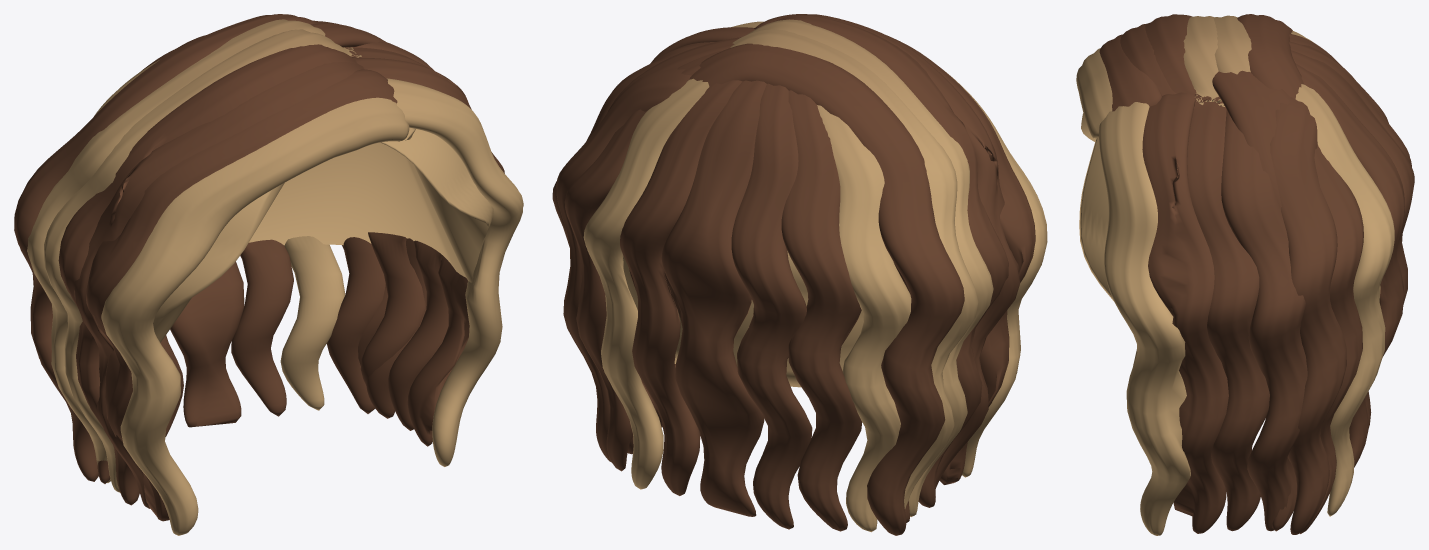
File: Highlights-e458574e0c9d251-hair.glb
The picture shows the model from 3 angles, left to right: view 1: azimuth 30°, elevation 25°; view 2: azimuth 150°, elevation 25°; view 3: azimuth 270°, elevation 25°; orthographic projection.
Parts seen in each view (by area): view 1: 226 hair / Hair / sculpted 0.001, 226 hair / Hair / sculpted 1.002, 226 hair / Hair / sculpted 2.001, 226 hair / Hair / sculpted 1.001; view 2: 226 hair / Hair / sculpted 0.001, 226 hair / Hair / sculpted 2.001, 226 hair / Hair / sculpted 1.002, 226 hair / Hair / sculpted 1.001; view 3: 226 hair / Hair / sculpted 1.002, 226 hair / Hair / sculpted 2.001, 226 hair / Hair / sculpted 0.001, 226 hair / Hair / sculpted 1.001.
Part boxes in pixels (left/top/right/bottom): 226 hair / Hair / sculpted 0.001: left=14, top=14, right=448, bottom=535; 226 hair / Hair / sculpted 1.002: left=44, top=23, right=523, bottom=521; 226 hair / Hair / sculpted 2.001: left=27, top=19, right=504, bottom=508; 226 hair / Hair / sculpted 1.001: left=153, top=129, right=493, bottom=342; 226 hair / Hair / sculpted 0.001: left=583, top=15, right=1047, bottom=535; 226 hair / Hair / sculpted 2.001: left=556, top=14, right=1020, bottom=532; 226 hair / Hair / sculpted 1.002: left=552, top=14, right=1035, bottom=531; 226 hair / Hair / sculpted 1.001: left=623, top=251, right=863, bottom=387; 226 hair / Hair / sculpted 1.002: left=1099, top=16, right=1404, bottom=535; 226 hair / Hair / sculpted 2.001: left=1120, top=15, right=1414, bottom=534; 226 hair / Hair / sculpted 0.001: left=1076, top=14, right=1411, bottom=531; 226 hair / Hair / sculpted 1.001: left=1079, top=113, right=1380, bottom=301.
Bounding box in the file's own units: 1.13 × 1.13 × 0.7898.
